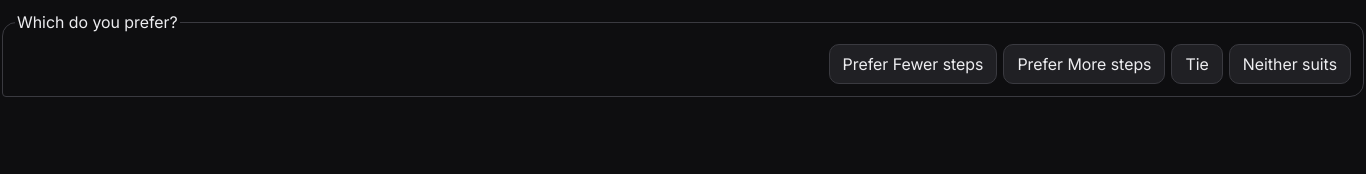
Test: keeps the choice preferred and shows it as the answer
Expected: the element "Which do you prefer?" is shown, [2, 12, 1364, 97]
Click the button "Prefer More steps". click: click(1084, 64)
box: [1003, 44, 1165, 84]
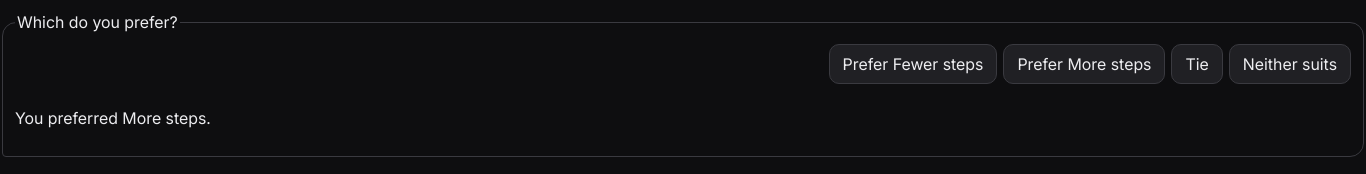
Result: the message reads "You preferred More steps." at [15, 108, 211, 128]
